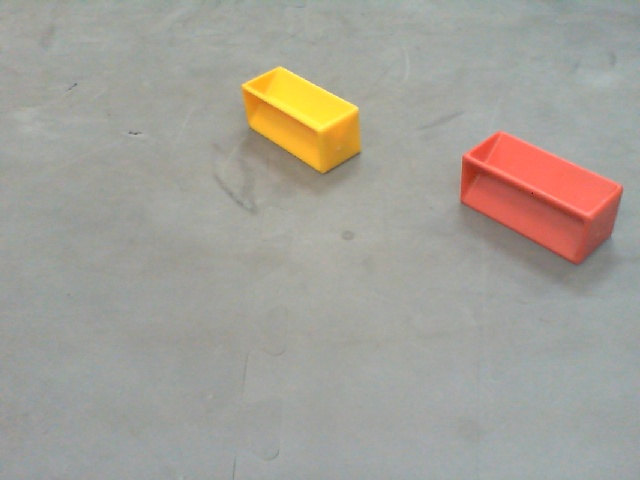RedSample: (461, 129, 627, 267)
YellowSample: (243, 65, 362, 175)
